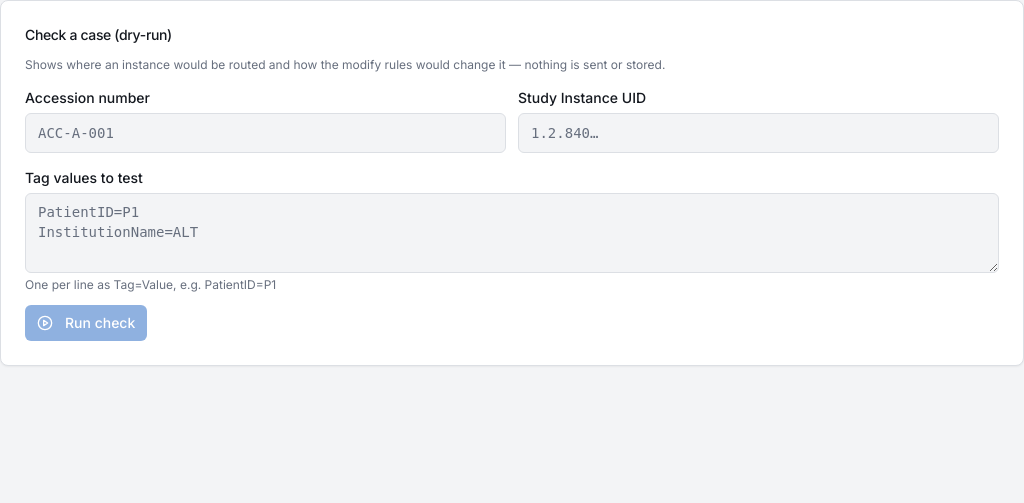
Test: CaseCheckPanel › shows a rejection when no target matches
Type "ACC-X" into the field labelled "Accession number".
click(266, 133); type("ACC-X")  # box [25,113,506,153]
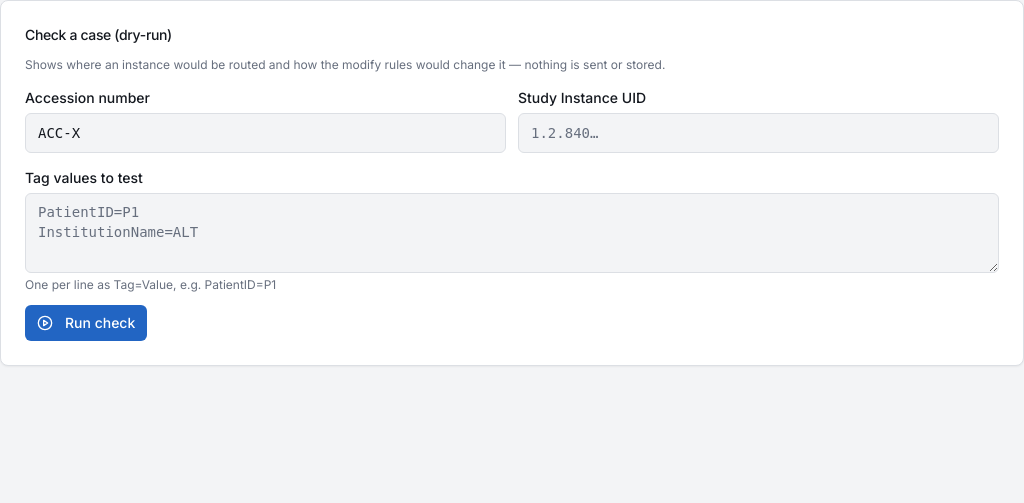
Click the button "Run check".
click(86, 323)  # box [25,305,147,341]
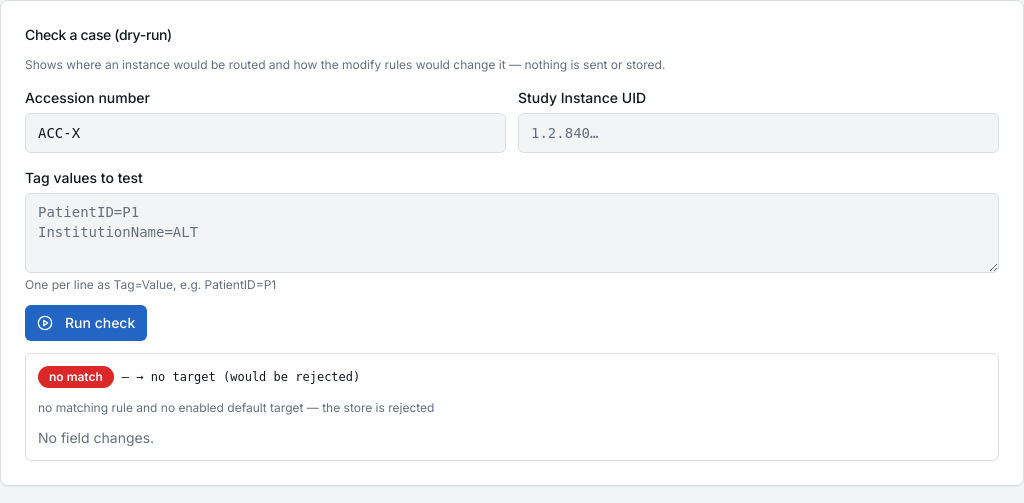
Now the text "— → no target (would be rejected)" is shown, box [122,369,360,385]
